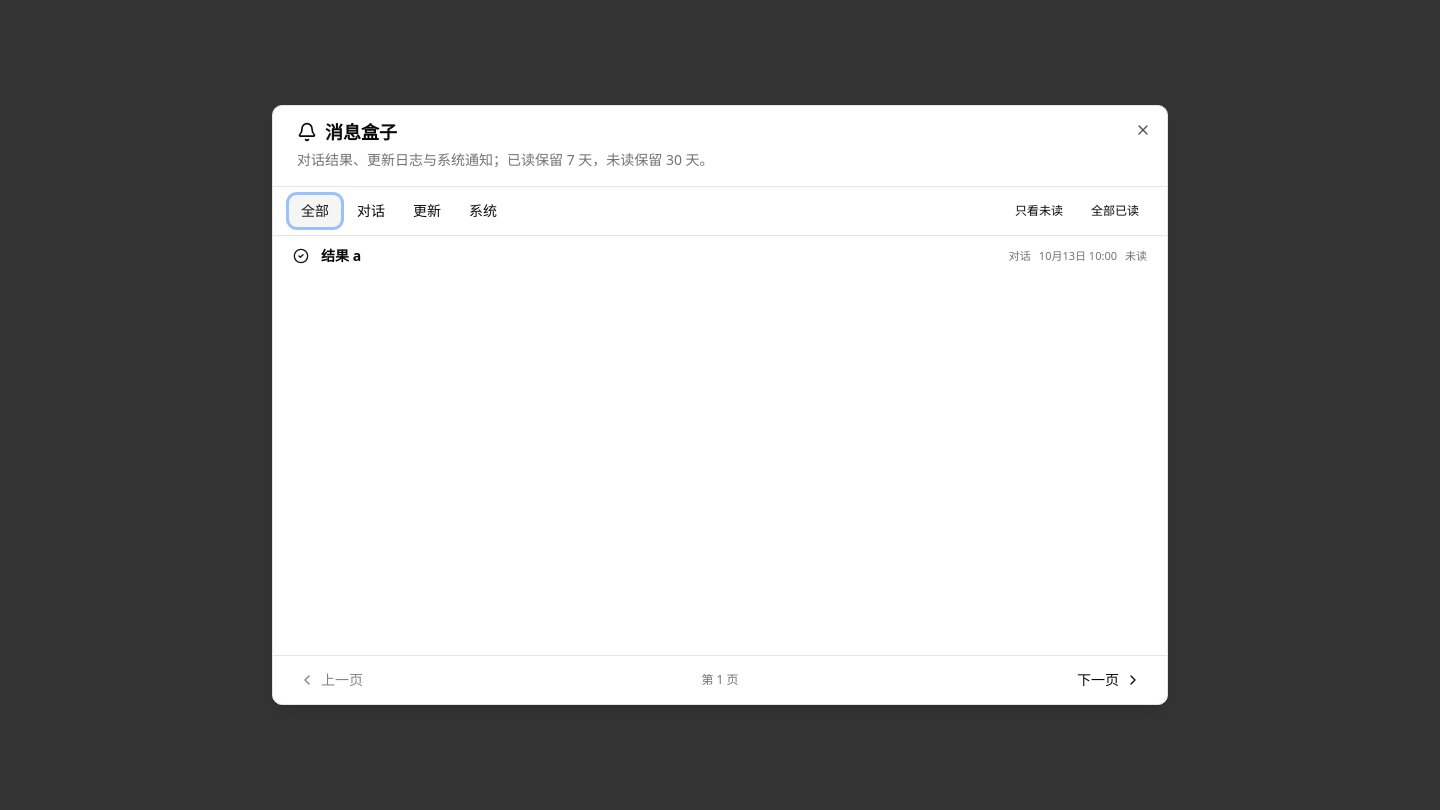
Test: 消息盒子 › 切到未读从第一页重新取
Check: the text "结果 a" is shown, box [321, 246, 361, 266]
Click the button "下一页". click: (1109, 680)
box: [1067, 664, 1151, 696]
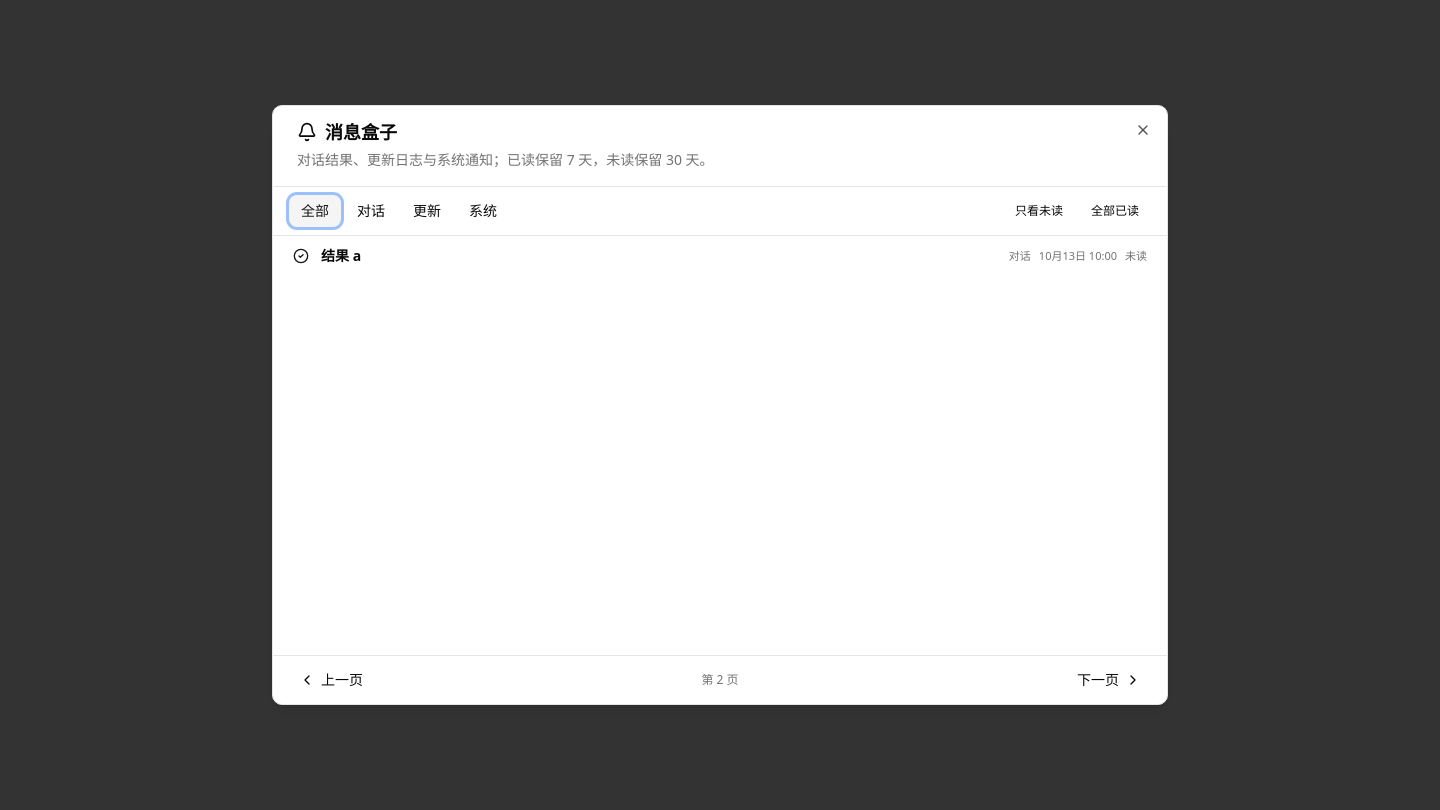
Check: the text "第 2 页" is shown, box [701, 672, 738, 688]
Click the button "只看未读". click: (1039, 211)
box: [1003, 195, 1075, 227]
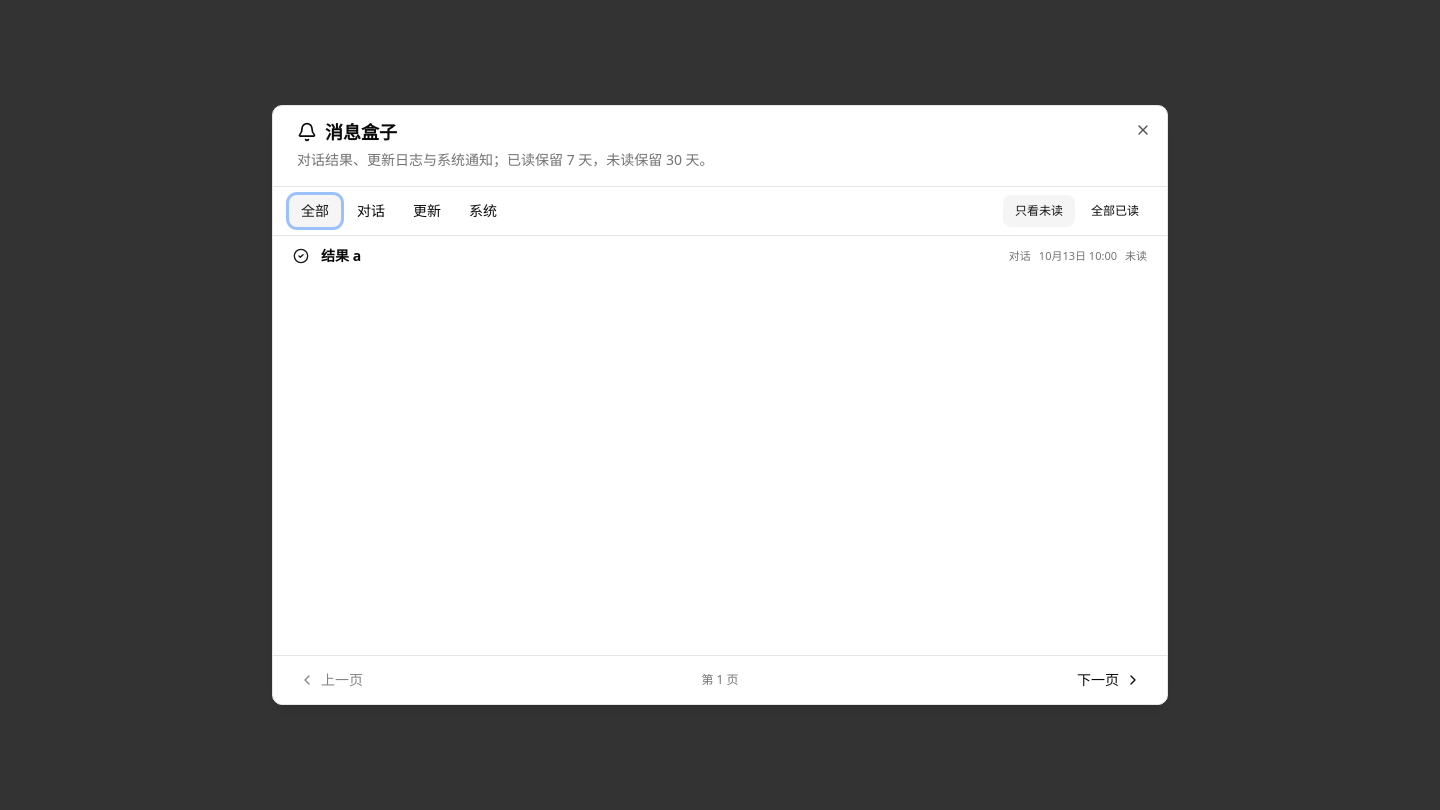
Check: the text "第 1 页" is shown, box [701, 672, 738, 688]
